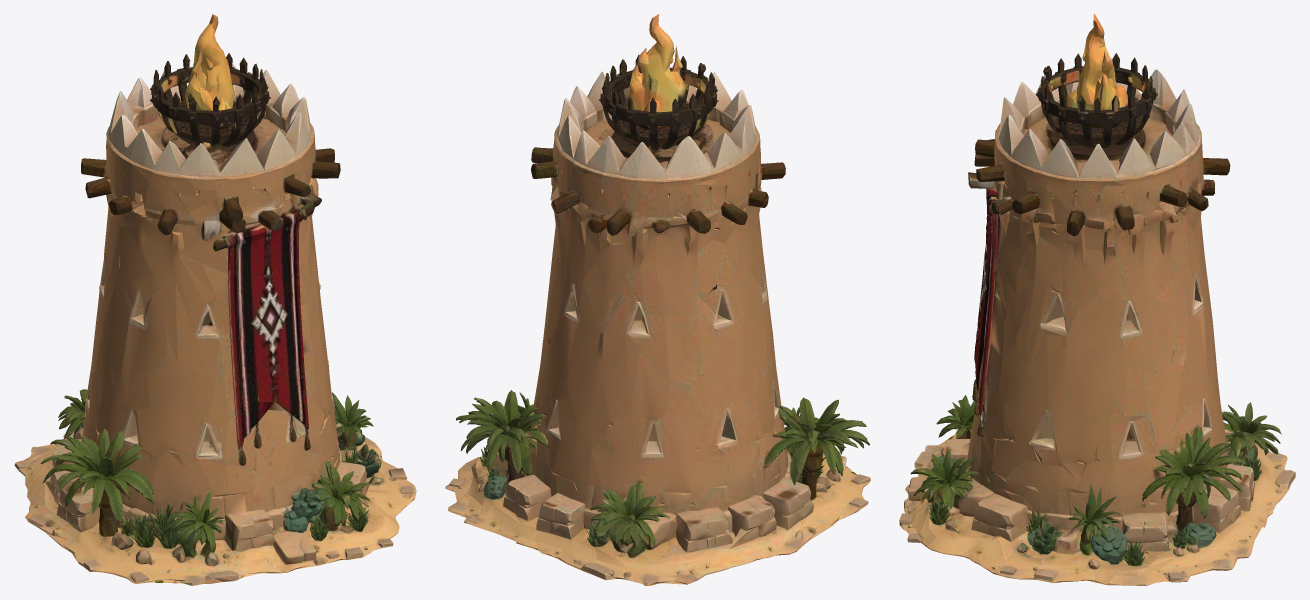
File: firetower.glb
The picture shows the model from 3 angles, left to right: view 1: azimuth 30°, elevation 25°; view 2: azimuth 150°, elevation 25°; view 3: azimuth 270°, elevation 25°; orthographic projection.
Parts seen in each view (by area): view 1: firetower; view 2: firetower; view 3: firetower.
Part boxes in pixels (box(x1,y1,x2,y2)): firetower: box(14, 14, 416, 585); firetower: box(445, 14, 870, 585); firetower: box(899, 14, 1295, 585).
Bounding box in the file's own units: 1.44 × 1.85 × 1.37.
1 material, 1 textured.
